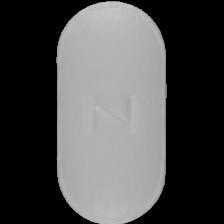33261-996: (0, 0, 224, 224)
